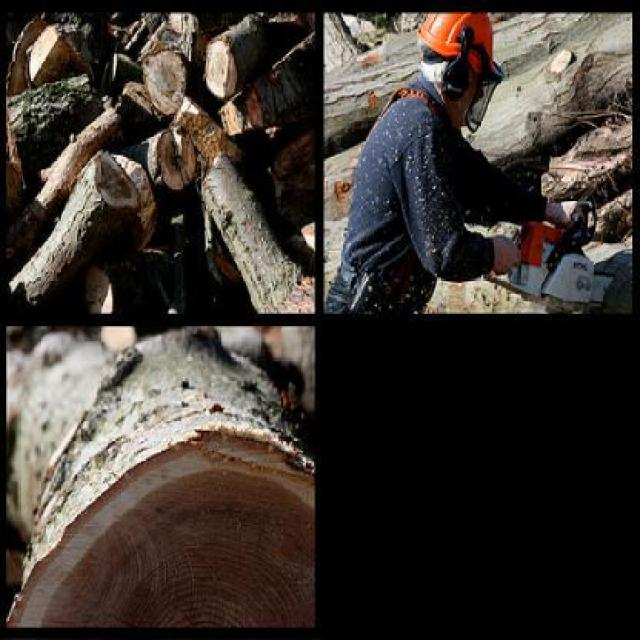Chainsaw: (502, 203, 616, 314)
